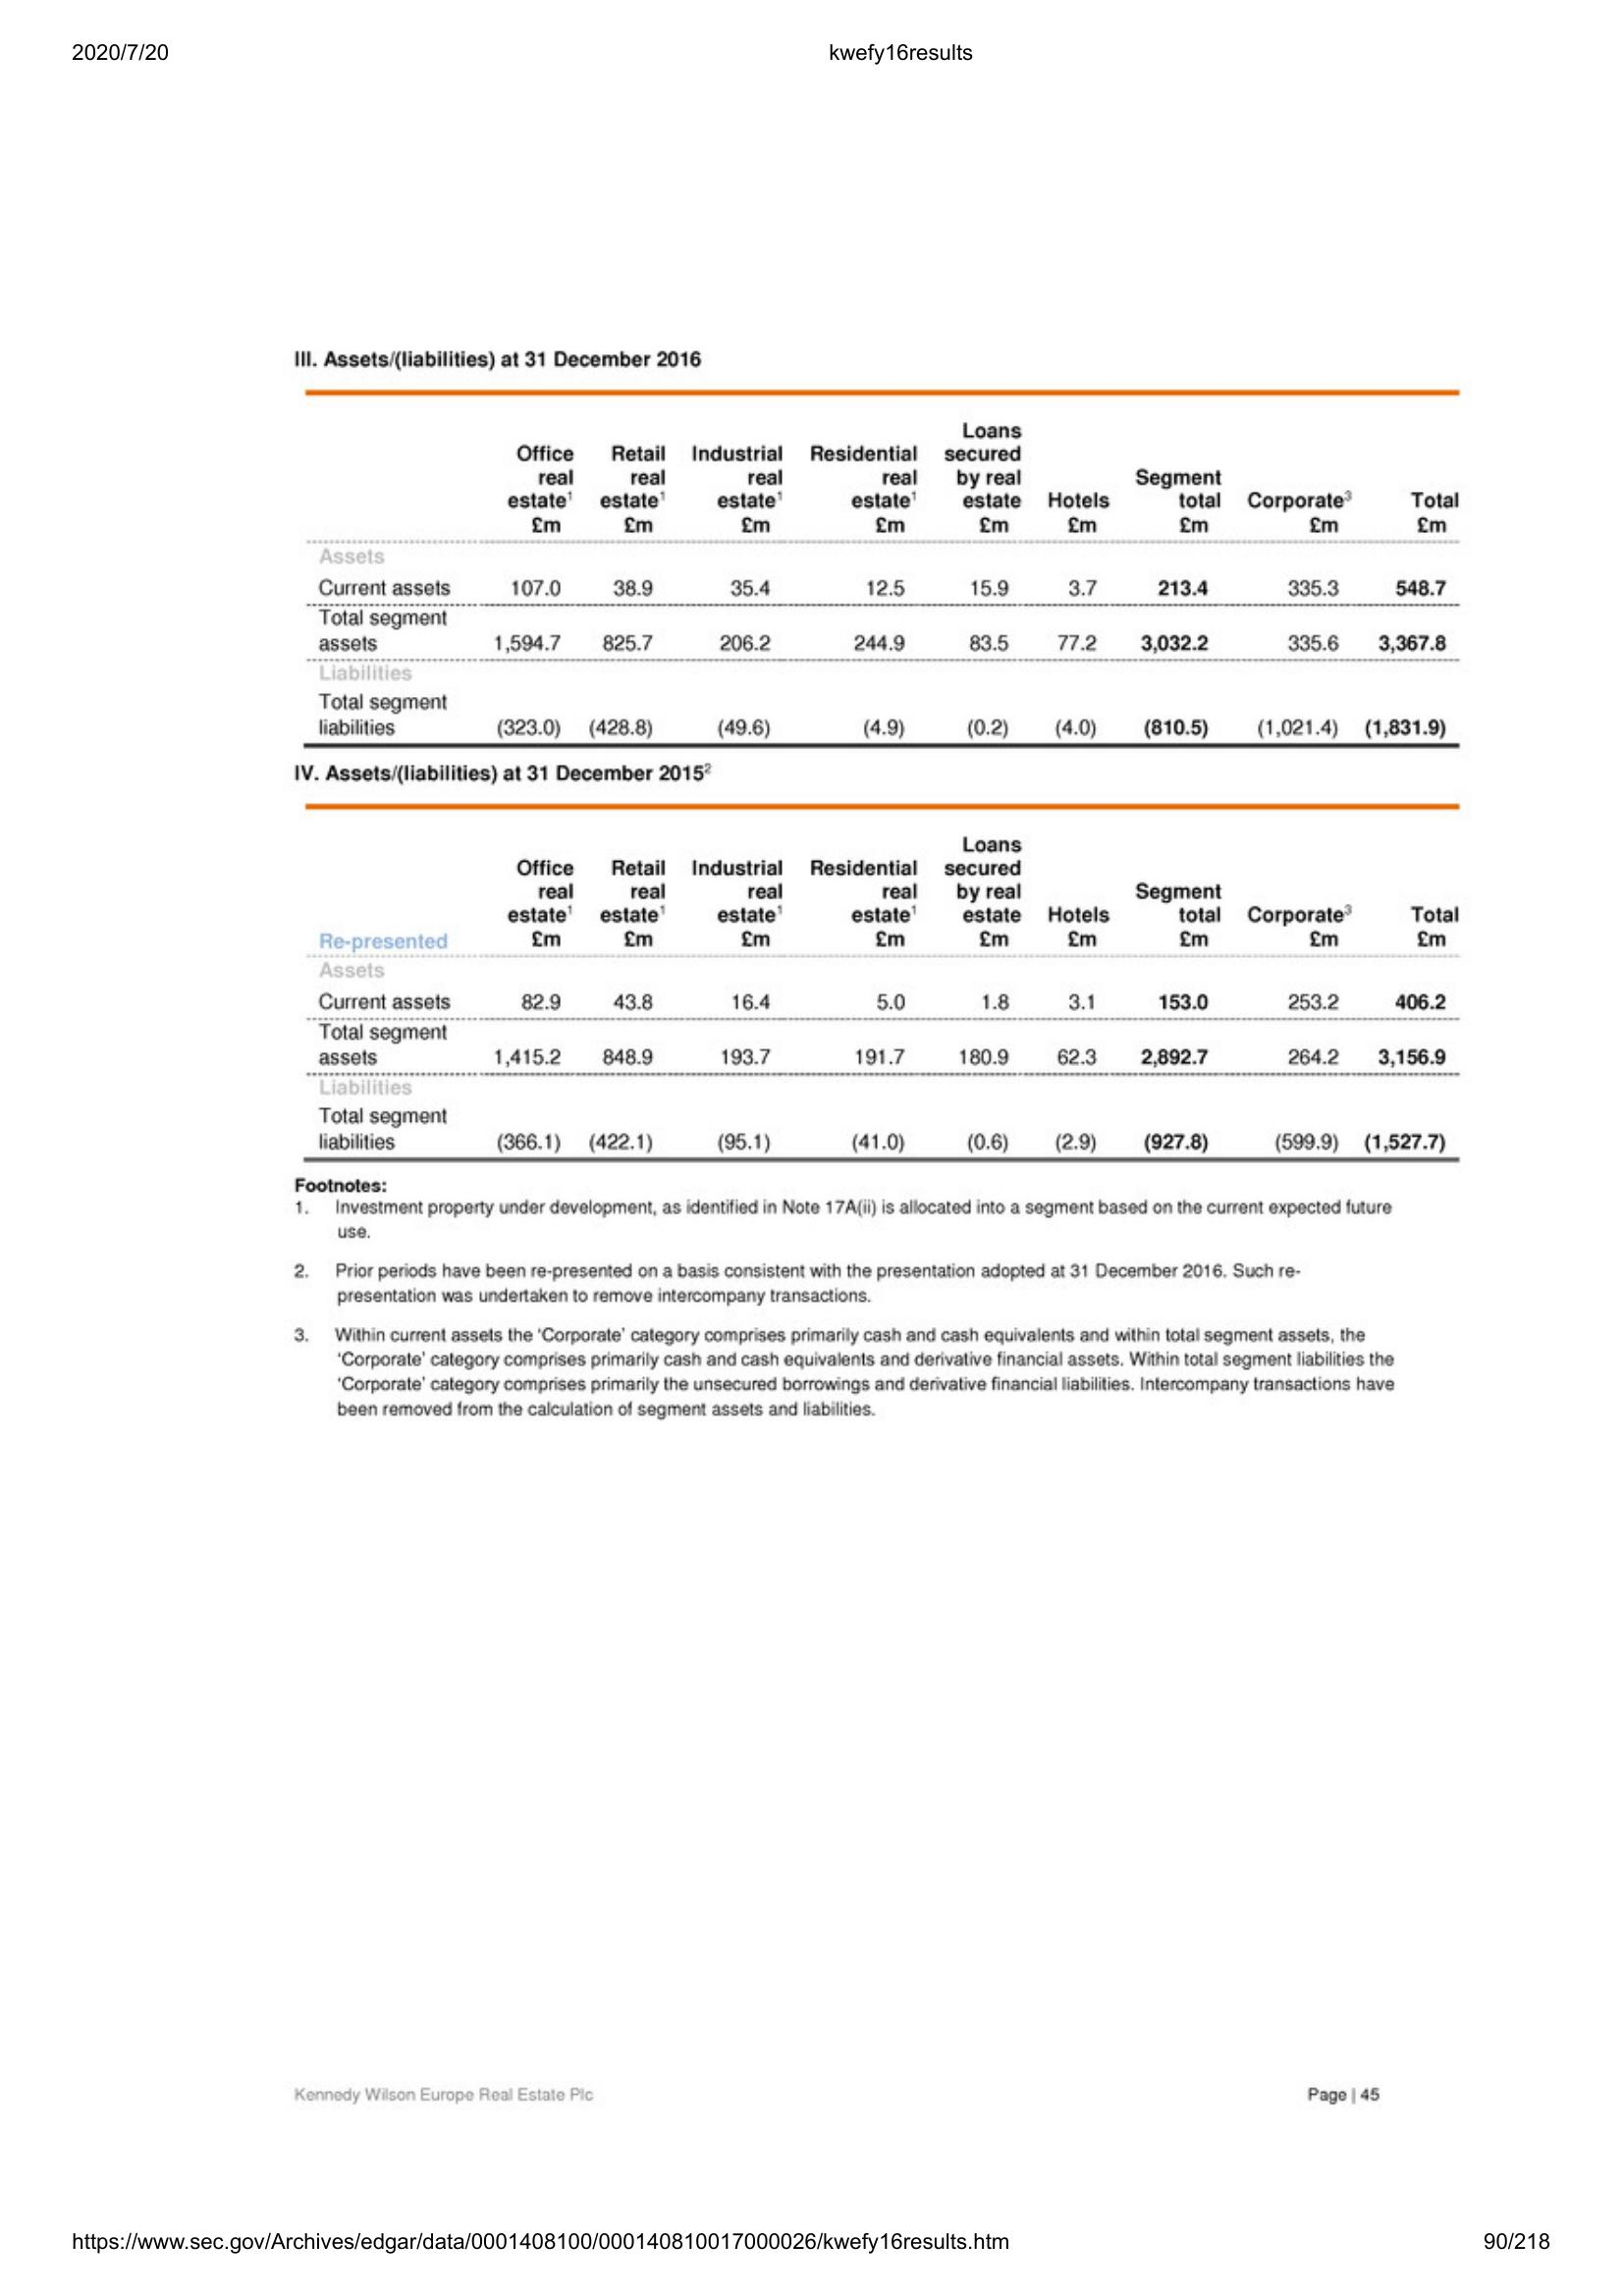table: (297, 384, 1468, 757), (295, 797, 1472, 1167)
